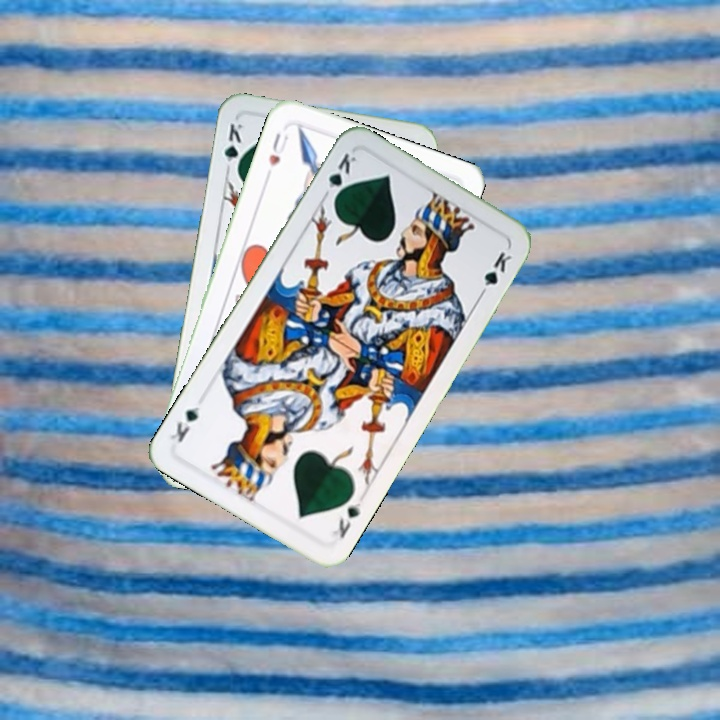GK: (324, 148, 359, 205), (328, 498, 364, 541), (220, 119, 245, 177)
HU: (264, 128, 292, 169)
